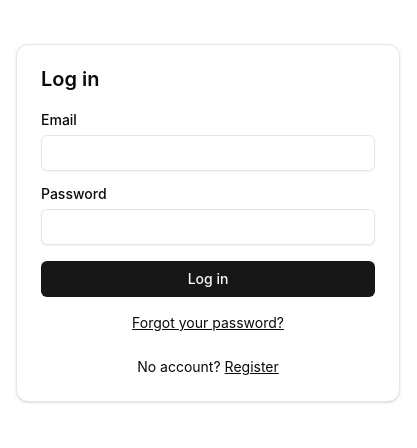
Test: login screen › Empty fields blocked on the client
Click the button "Log in" at (208, 279), box [41, 261, 375, 297]
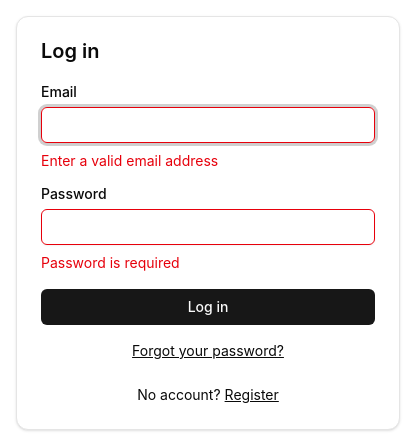
Expected: the text "Enter a valid email address" is shown, [41, 152, 218, 169]
Expected: the text "Password is required" is shown, [41, 254, 180, 271]
